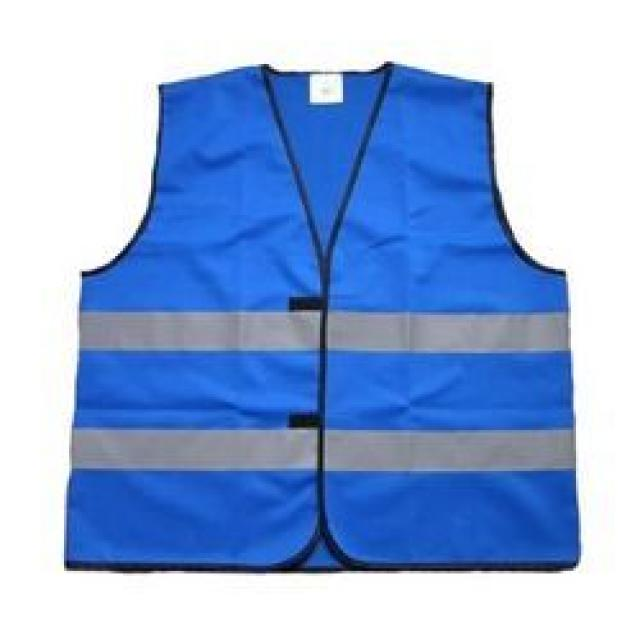Reflective-Jacket: (26, 36, 624, 581)
